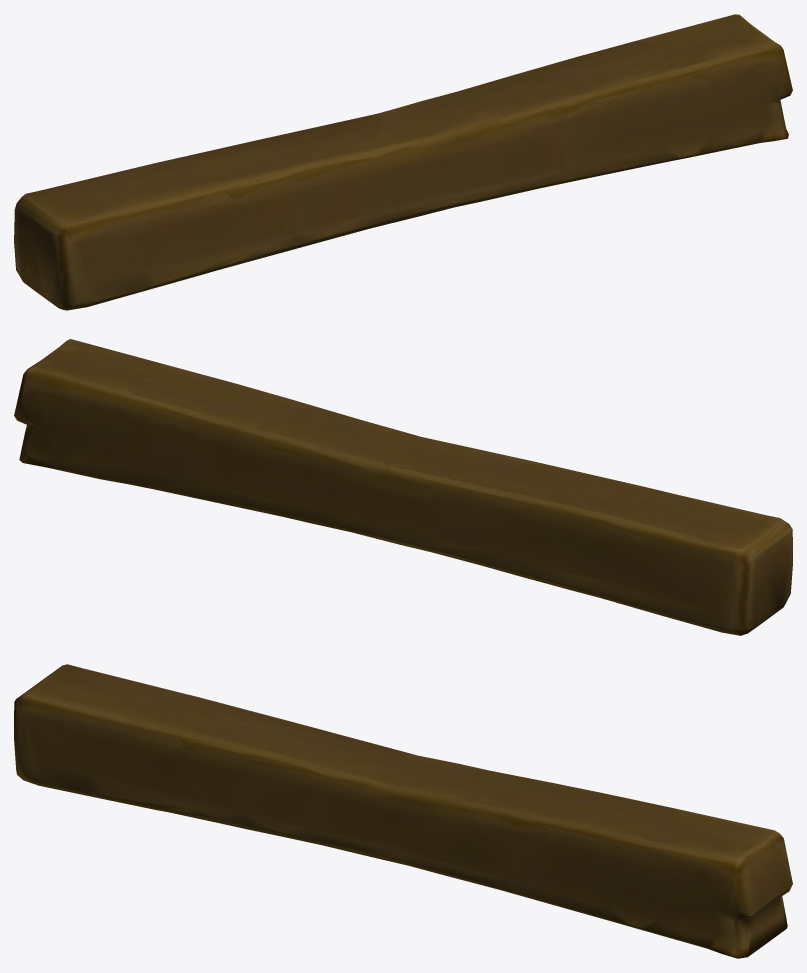
The model's file is timber-beam.glb.
The picture shows the model from 3 angles, top to bottom: view 1: azimuth 30°, elevation 25°; view 2: azimuth 150°, elevation 25°; view 3: azimuth 330°, elevation 25°; orthographic projection.
Visible parts, largest first — view 1: tripo_node_206b057d-76a3-4ae9-8b2b-5665e36d3f2f; view 2: tripo_node_206b057d-76a3-4ae9-8b2b-5665e36d3f2f; view 3: tripo_node_206b057d-76a3-4ae9-8b2b-5665e36d3f2f.
Boxes of the visible parts, x1,y1,x2,y2 form: tripo_node_206b057d-76a3-4ae9-8b2b-5665e36d3f2f: (14, 14, 792, 310); tripo_node_206b057d-76a3-4ae9-8b2b-5665e36d3f2f: (14, 339, 792, 635); tripo_node_206b057d-76a3-4ae9-8b2b-5665e36d3f2f: (14, 664, 792, 958).
Bounding box in the file's own units: 0.9795 × 0.1193 × 0.127.
Materials: 1 (1 with a texture image).
